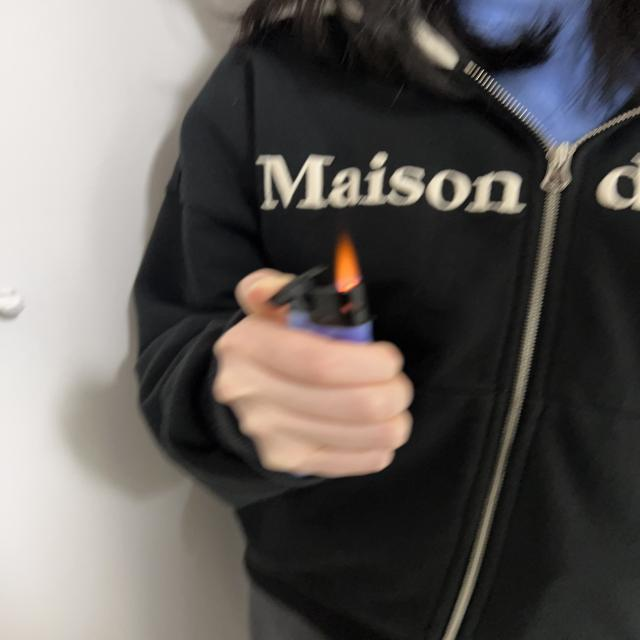fire: (333, 231, 363, 292)
